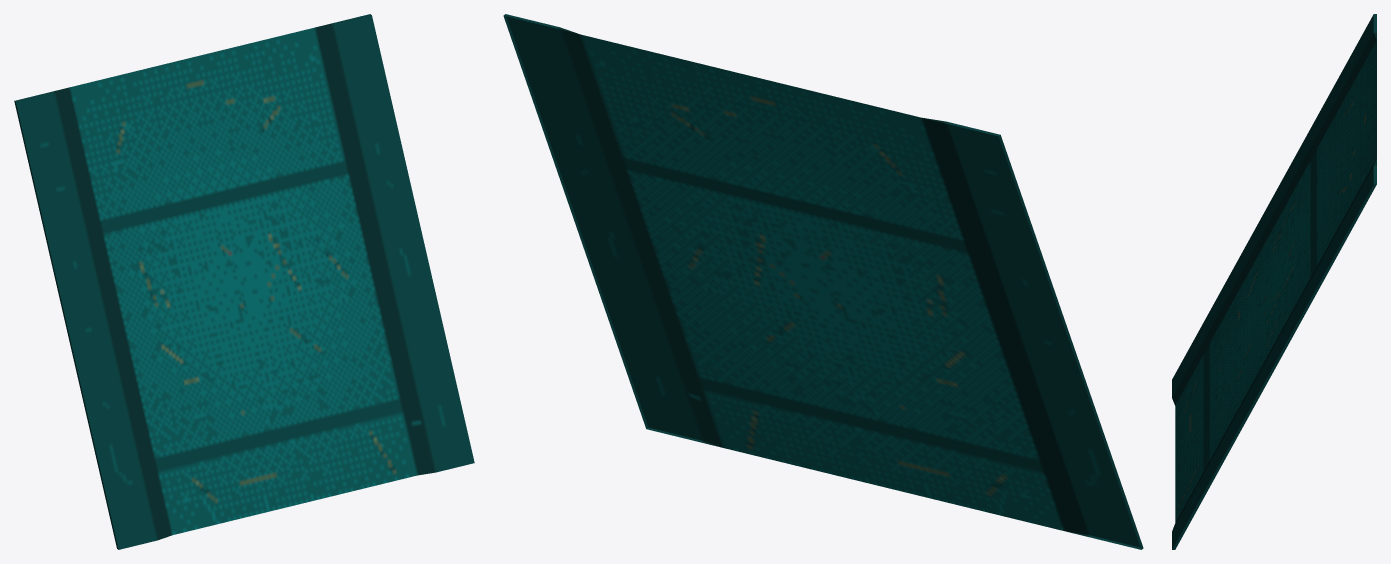
The model's file is med1_9d_ofs128_90.fbx.
The picture shows the model from 3 angles, left to right: view 1: azimuth 30°, elevation 25°; view 2: azimuth 150°, elevation 25°; view 3: azimuth 270°, elevation 25°; orthographic projection. The views are drawn at different scales.
Parts seen in each view (by area): view 1: med1_9d_mesh_ofs128_90; view 2: med1_9d_mesh_ofs128_90; view 3: med1_9d_mesh_ofs128_90.
Boxes of the visible parts, x1,y1,x2,y2 form: med1_9d_mesh_ofs128_90: [14, 14, 474, 549]; med1_9d_mesh_ofs128_90: [503, 14, 1143, 549]; med1_9d_mesh_ofs128_90: [1172, 14, 1376, 549].
Bounding box in the file's own units: 256 × 256 × 130.
